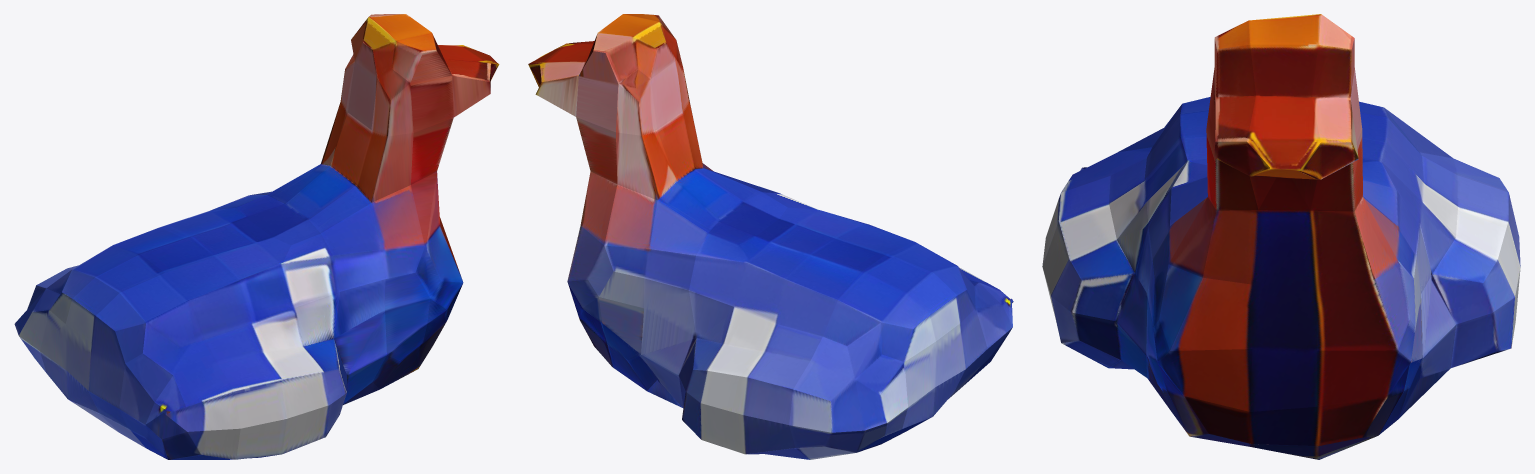
3 views of the same model, side by side, from view 1: azimuth 30°, elevation 25°; view 2: azimuth 150°, elevation 25°; view 3: azimuth 270°, elevation 25° (orthographic). The views are drawn at different scales.
Visible parts, largest first — view 1: mvadapter_node_i2_br; view 2: mvadapter_node_i2_br; view 3: mvadapter_node_i2_br.
Part boxes in pixels (x1,y1,x2,y2): mvadapter_node_i2_br: (14, 14, 499, 459); mvadapter_node_i2_br: (528, 14, 1013, 459); mvadapter_node_i2_br: (1042, 14, 1520, 459).
Bounding box in the file's own units: 0.9004 × 0.6987 × 0.6634.
1 material, 1 textured.
